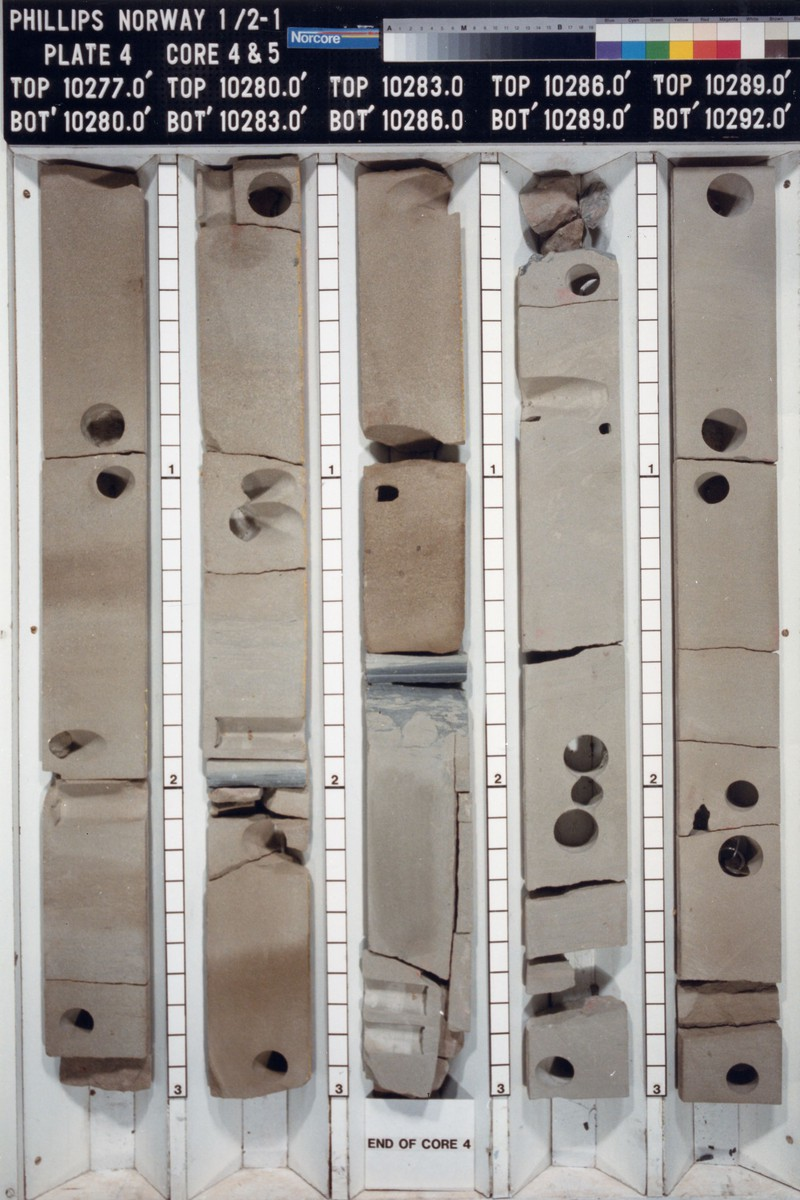core: (192, 159, 318, 1100), (355, 169, 474, 1096), (516, 174, 634, 1099), (37, 167, 155, 1090), (672, 166, 784, 1109)
